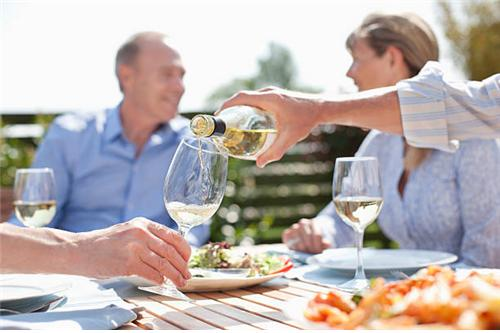alcohol: (164, 135, 232, 292), (332, 157, 389, 291), (189, 106, 281, 162), (14, 164, 55, 232)
